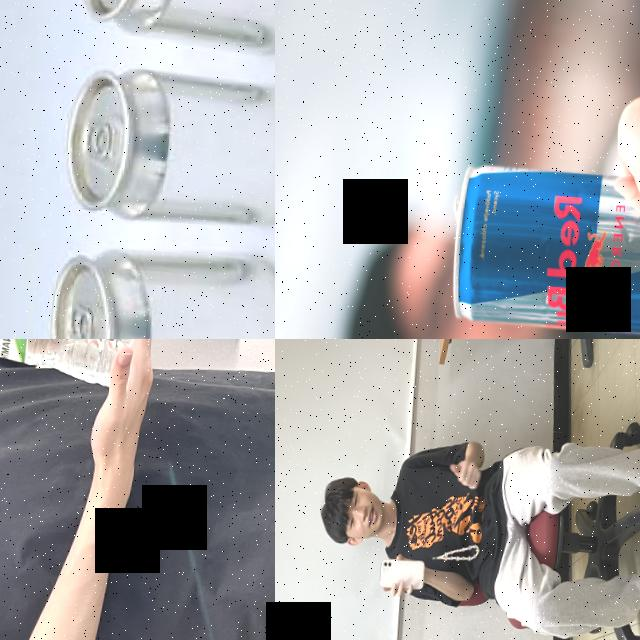bottle: (0, 339, 138, 388)
can: (54, 57, 275, 232), (443, 157, 640, 339), (36, 238, 275, 339), (71, 0, 275, 61)
